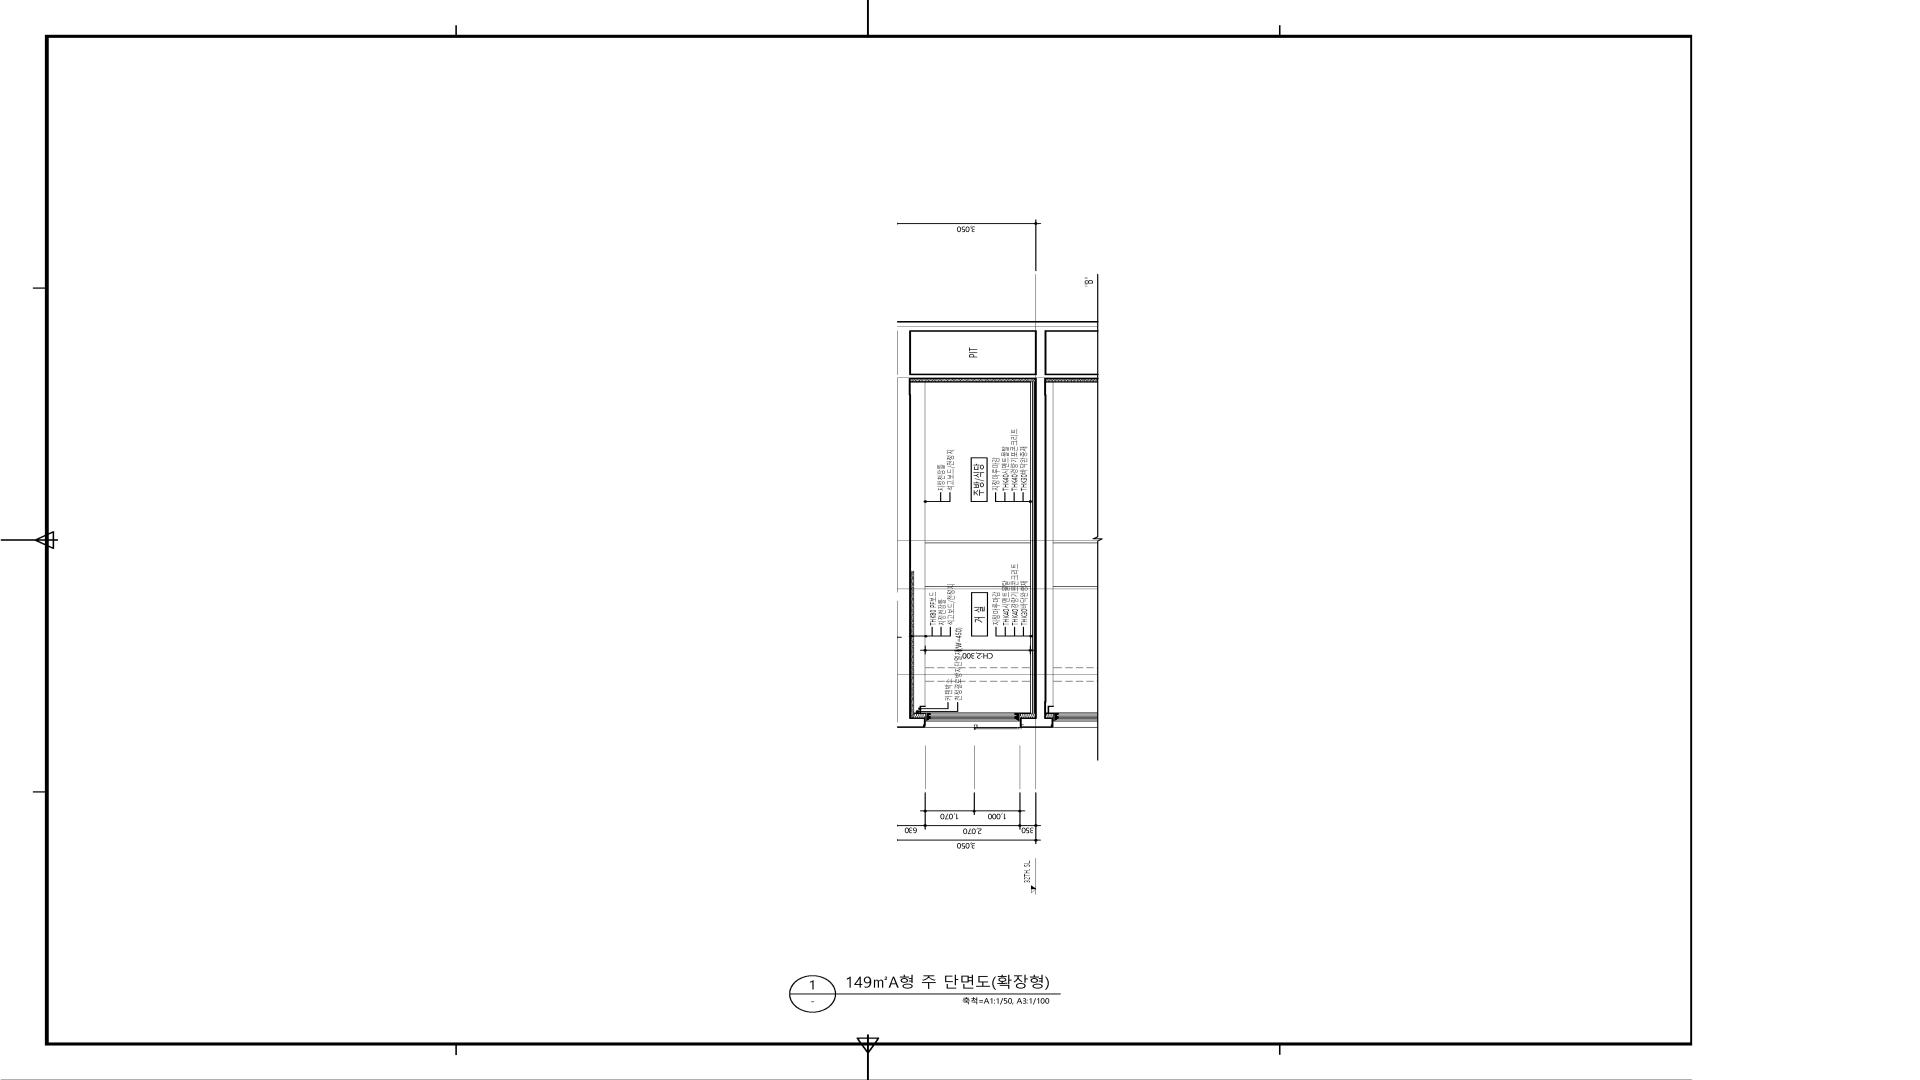wall: (897, 320, 926, 728), (1021, 377, 1046, 728), (911, 320, 1047, 380)
window: (926, 712, 1021, 728)
